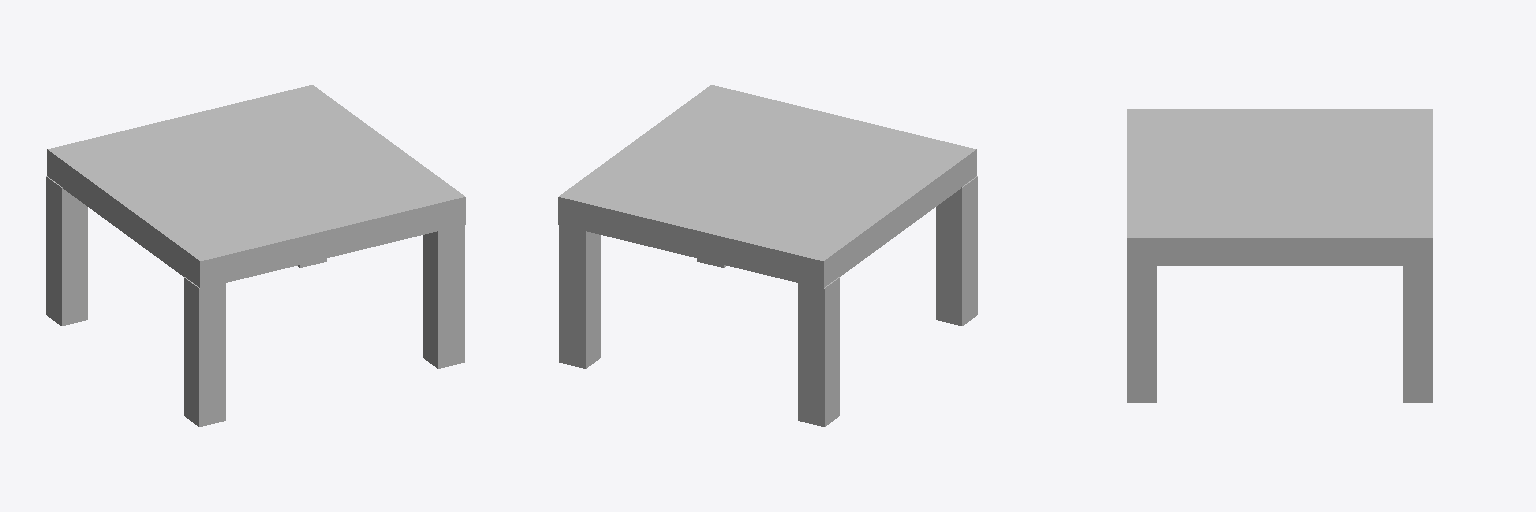
The model's file is table.obj.
The picture shows the model from 3 angles: view 1: azimuth 30°, elevation 25°; view 2: azimuth 150°, elevation 25°; view 3: azimuth 270°, elevation 25°; orthographic projection.
Visible parts, largest first — view 1: Cube_Cube.001, Cube.002_Cube.003, Cube.004_Cube.005, Cube.003_Cube.004; view 2: Cube_Cube.001, Cube.003_Cube.004, Cube.001_Cube.002, Cube.002_Cube.003; view 3: Cube_Cube.001, Cube.001_Cube.002, Cube.004_Cube.005.
Part boxes in pixels (x1,y1,x2,y2): Cube_Cube.001: (47,85,465,288); Cube.002_Cube.003: (184,277,225,426); Cube.004_Cube.005: (423,225,464,368); Cube.003_Cube.004: (46,176,87,325); Cube_Cube.001: (558,85,976,288); Cube.003_Cube.004: (798,277,839,426); Cube.001_Cube.002: (559,225,600,368); Cube.002_Cube.003: (936,176,977,325); Cube_Cube.001: (1127,109,1432,265); Cube.001_Cube.002: (1403,266,1432,402); Cube.004_Cube.005: (1127,266,1156,402).
Bounding box in the file's own units: 2.01 × 1.19 × 2.